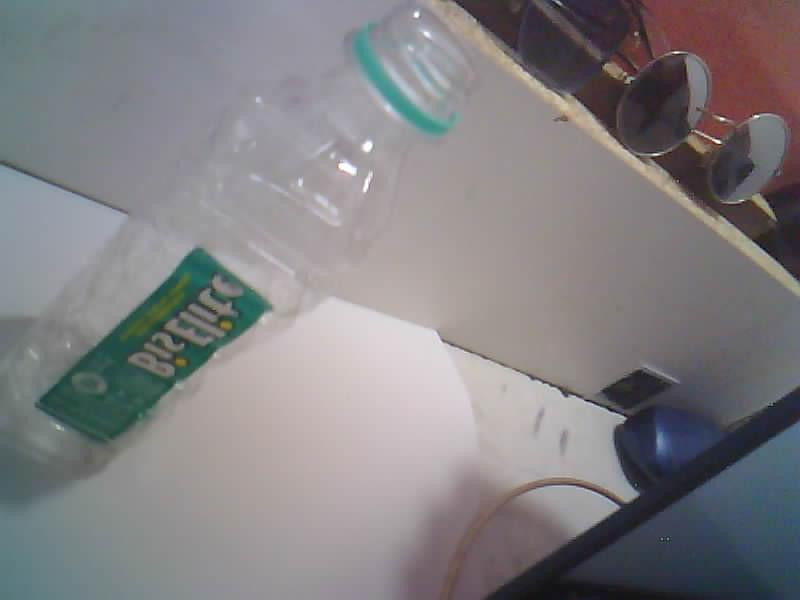non-biodegradable: (0, 5, 473, 470)
